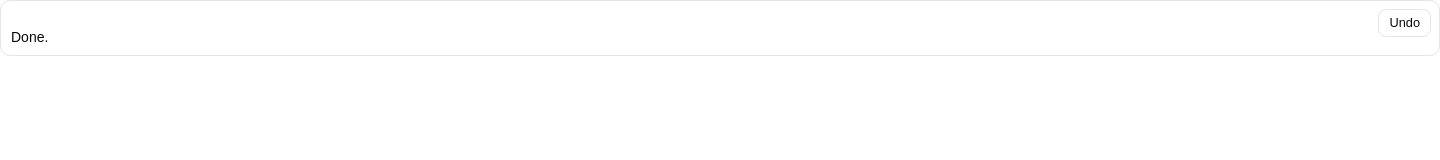
Scenario: UndoNotice › admits uncertainty when the reversal rejects, and allows a retry
Click the button "Undo": (1405, 23) [1378, 9, 1431, 37]
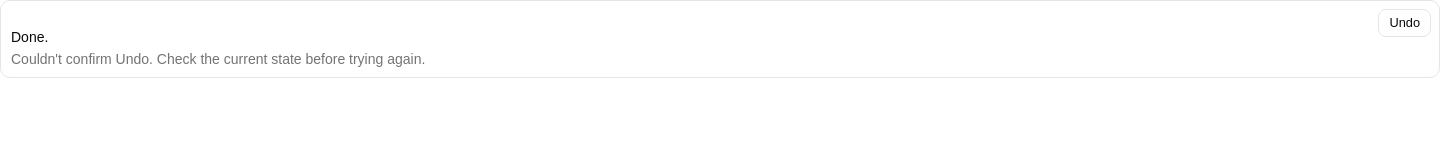
Now the text "Couldn't confirm Undo. Check the current state before trying again." is shown, box [11, 51, 425, 67]
